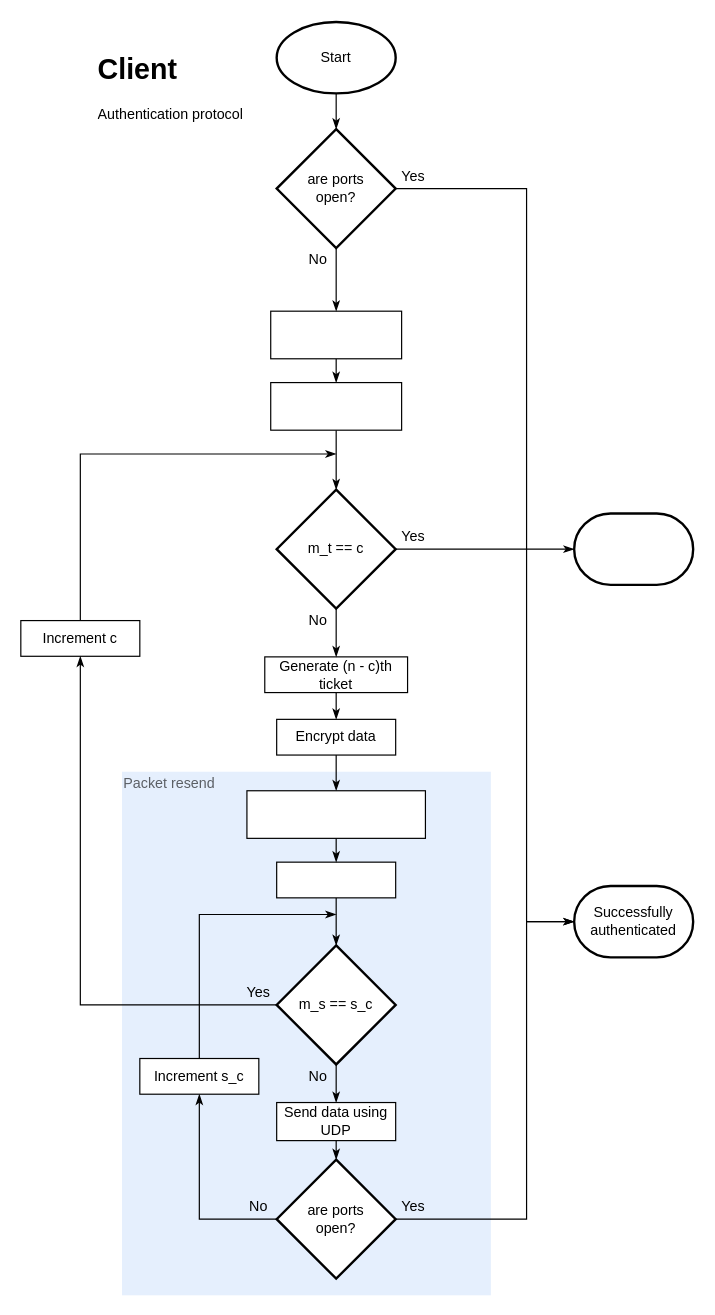
The diagram is 715 pixels wide and 1315 high, and some of its shapes have lost their labels. Here are the shapes that lost their labels. From the top down, the centre of each, then its label:
At point (336, 334): "Max tickets to try limit m_t = 3".
At point (336, 405): "Init tickets tried counter c = 0".
At point (633, 548): "Authentication failed".
At point (335, 814): "Max times to repeat sending data m_s = 10".
At point (335, 879): "Init sent counter s_c = 0".
